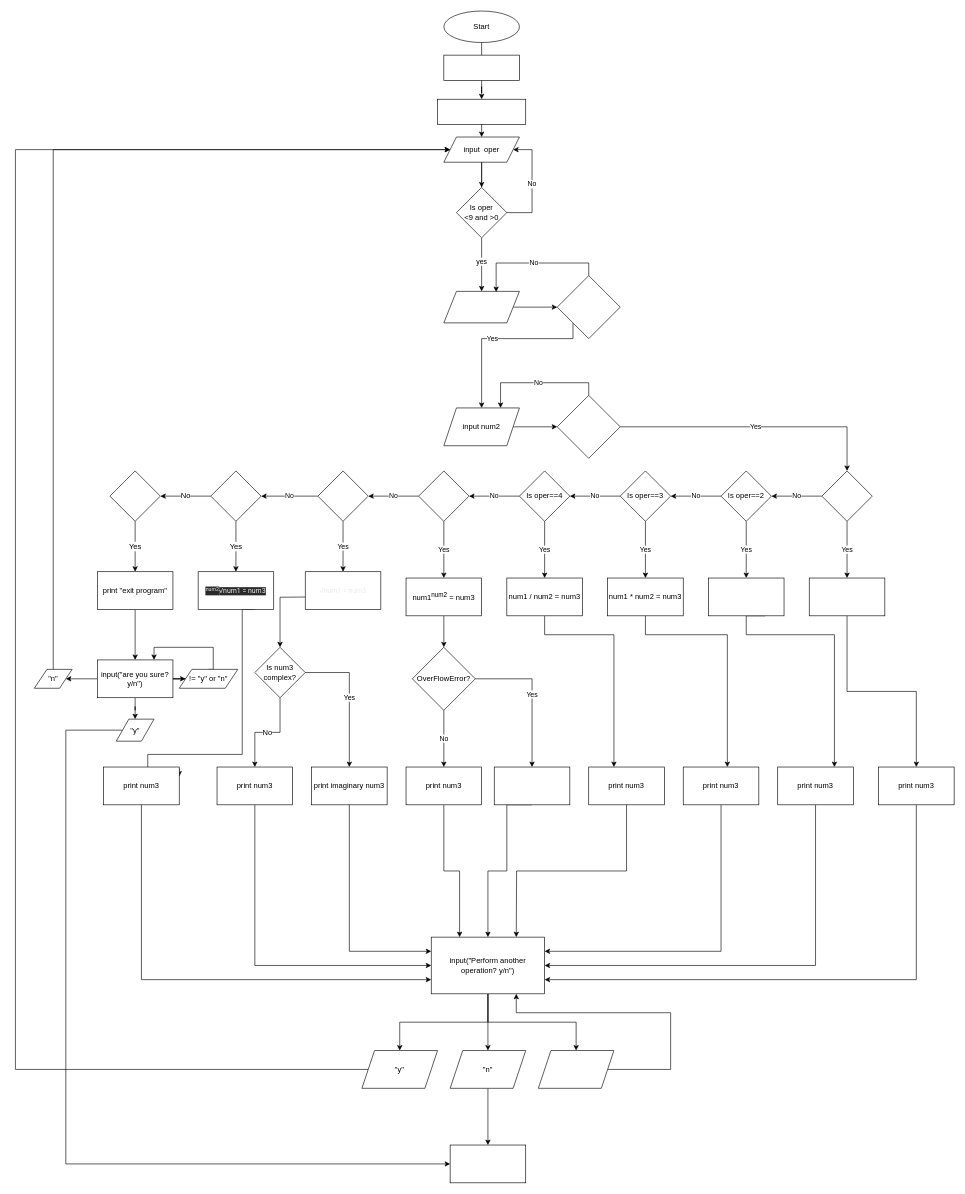
Some shapes in this 965 by 1194 pixel diagram are drawn without their labels. Here are the shapes that lost their labels. From the top down, the centre of each, then its label:
pixel 481 67: int, oper = 0
pixel 481 111: float, num1, num2, num3
pixel 481 307: input num1
pixel 588 307: Is num1 float value
pixel 588 426: Is num2 float value
pixel 134 495: is oper==8
pixel 235 495: is oper==7
pixel 342 495: is oper==6
pixel 443 495: is oper==5
pixel 846 495: Is oper==1
pixel 746 596: num1 - num2 = num3
pixel 847 596: num1 + num2 = num3
pixel 532 785: print"OverFlowError: result too large"
pixel 576 1069: else
pixel 488 1163: end
